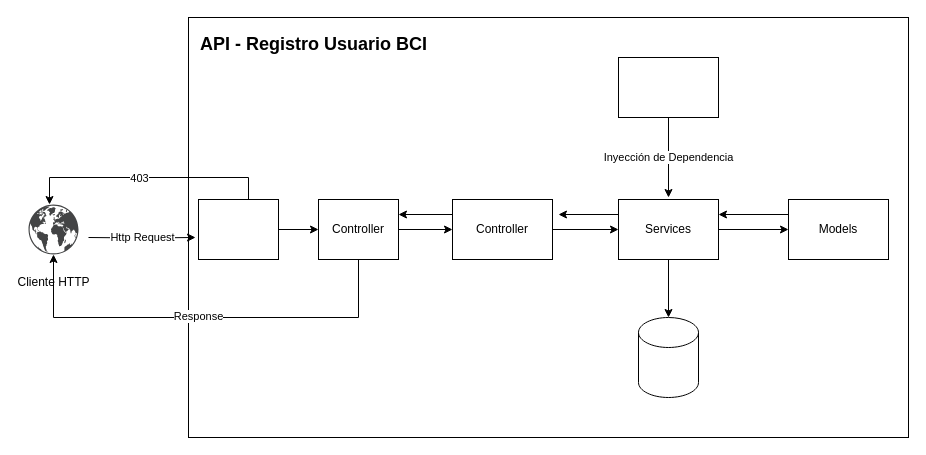
Some shapes in this 926 by 455 pixel diagram are drawn without their labels. Here are the shapes that lost their labels. From the top down, the centre of each, then its label:
At point (668, 87): "JPA Repository".
At point (238, 229): "JWT".
At point (668, 357): "DB H2".
